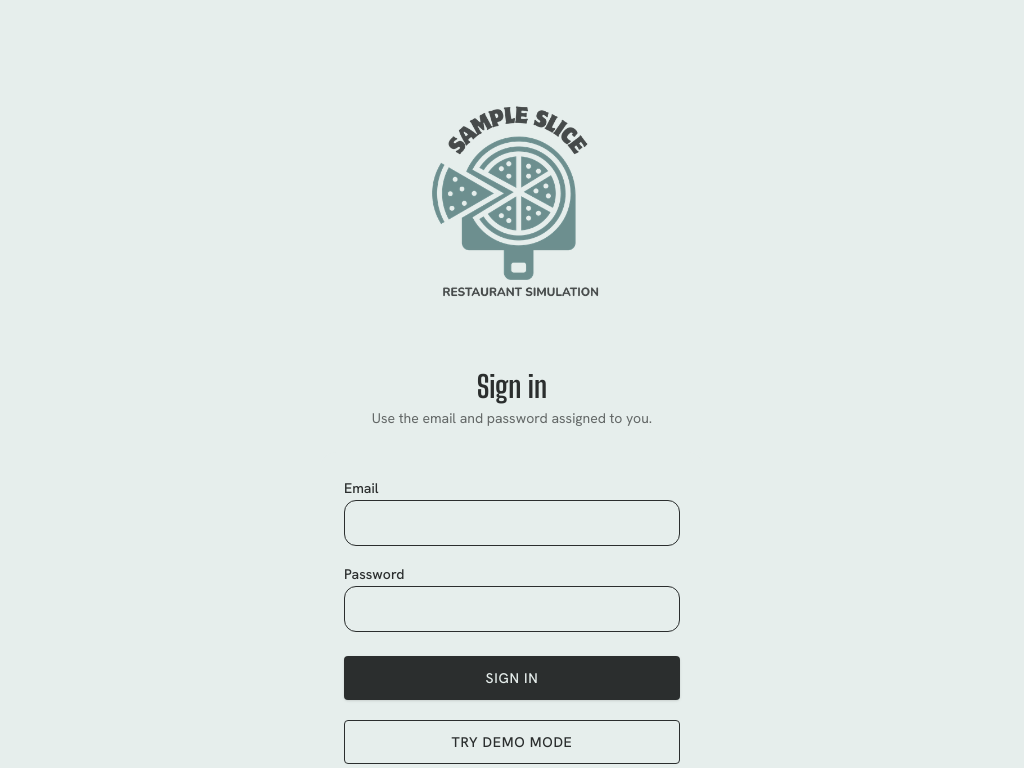
account sign-in › opens the dashboard assigned to a student account
Type "test@example.invalid" into the field labelled "Email".
click(512, 523); type("test@example.invalid")  # box x1=344 y1=500 x2=680 y2=546
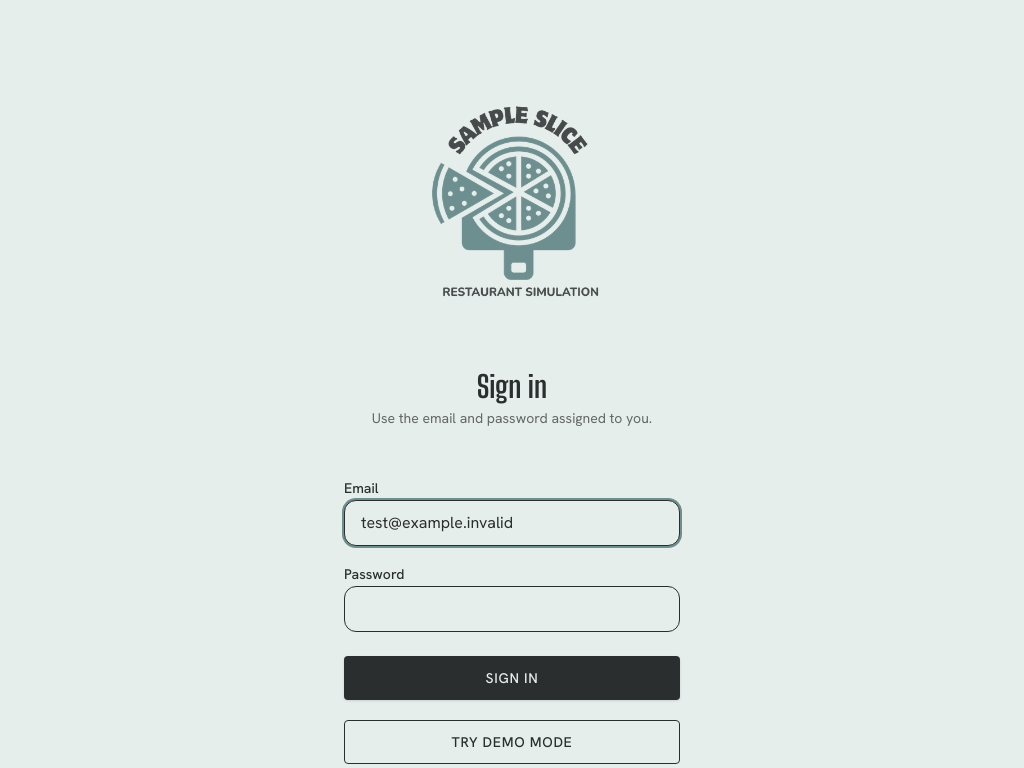
Type "test-input-only" into the password field labelled "Password".
click(512, 609); type("test-input-only")  # box x1=344 y1=586 x2=680 y2=632
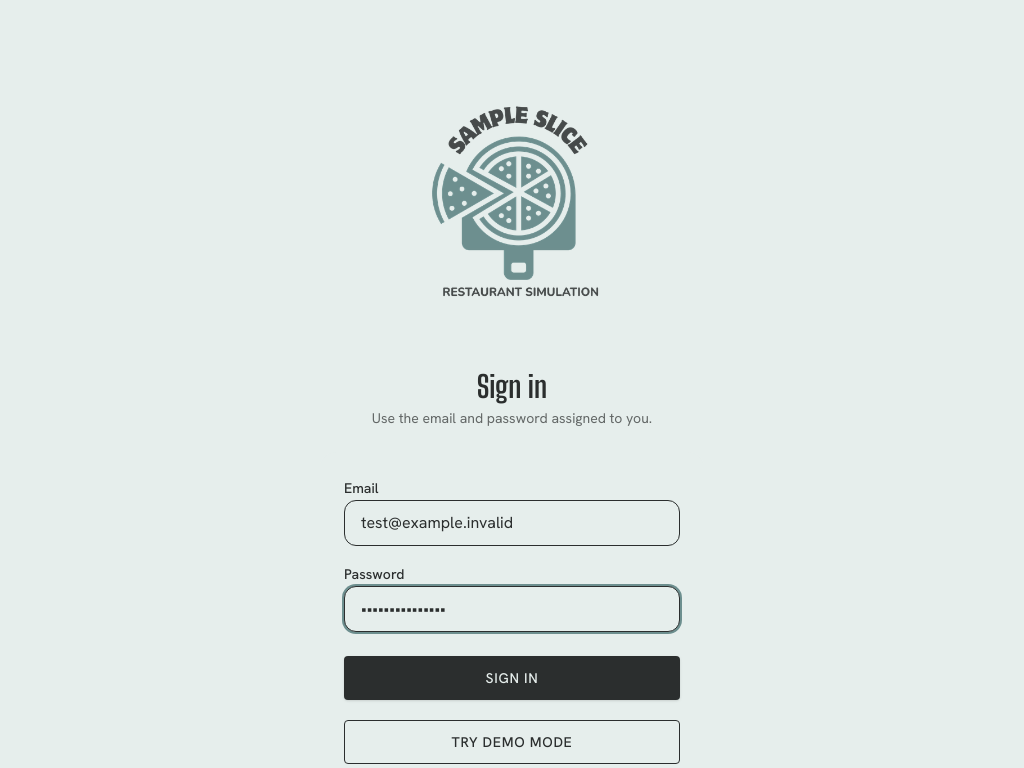
Click the button "Sign in".
click(512, 678)  # box x1=344 y1=656 x2=680 y2=700
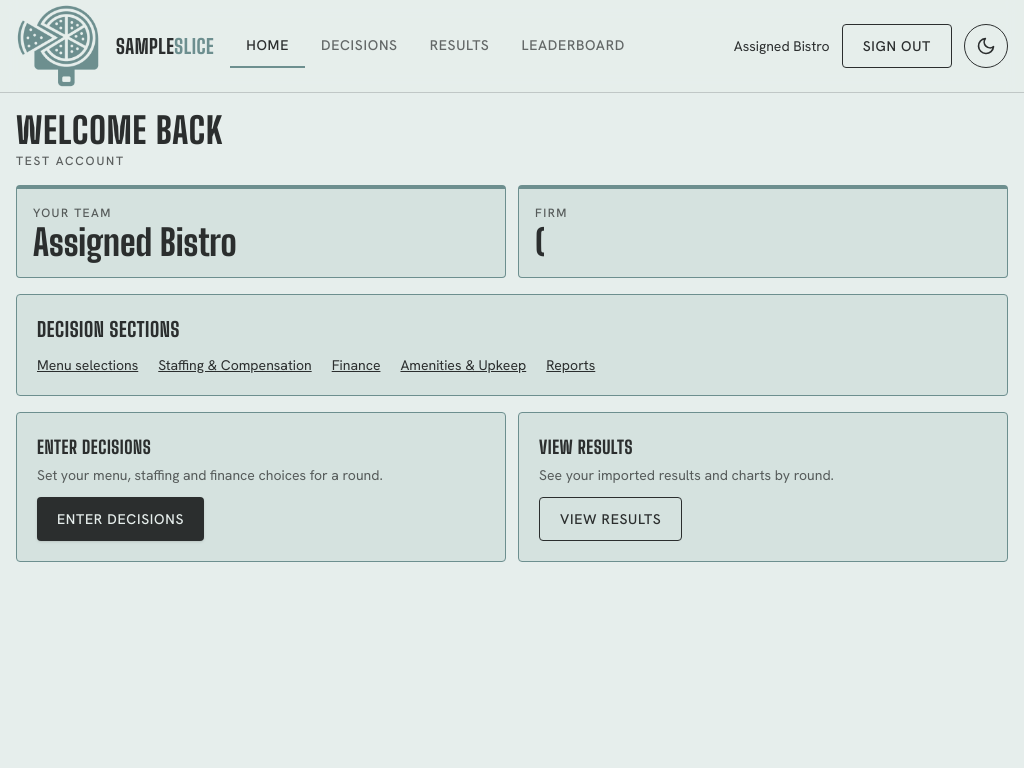
Result: the heading "Welcome back" is shown at x1=16 y1=113 x2=224 y2=149
Click the button "Sign out".
click(897, 46)  # box x1=842 y1=24 x2=952 y2=68
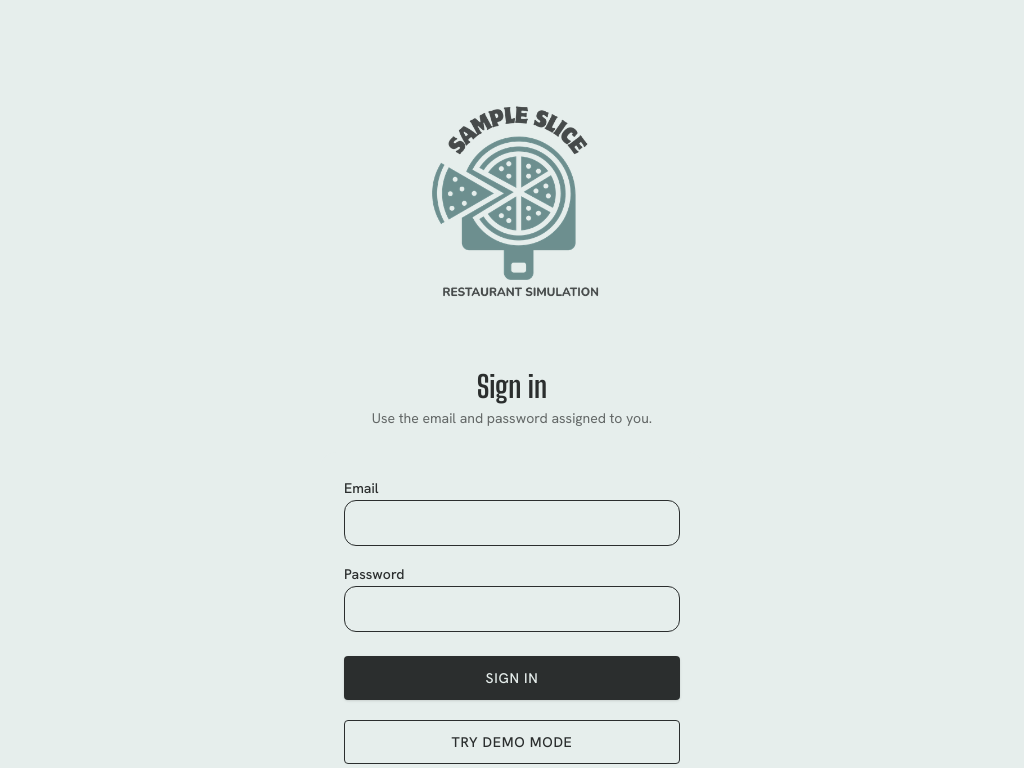
Result: the heading "Sign in" is shown at x1=477 y1=368 x2=547 y2=404
